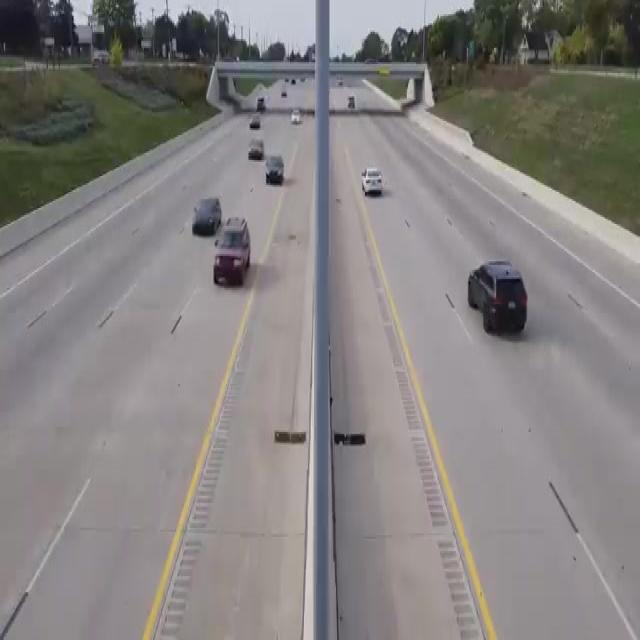car: (471, 248, 541, 348), (215, 212, 248, 292), (186, 188, 218, 228), (355, 165, 391, 195), (266, 149, 286, 197), (290, 106, 309, 138), (248, 139, 267, 168), (246, 111, 265, 135), (254, 92, 270, 120)
